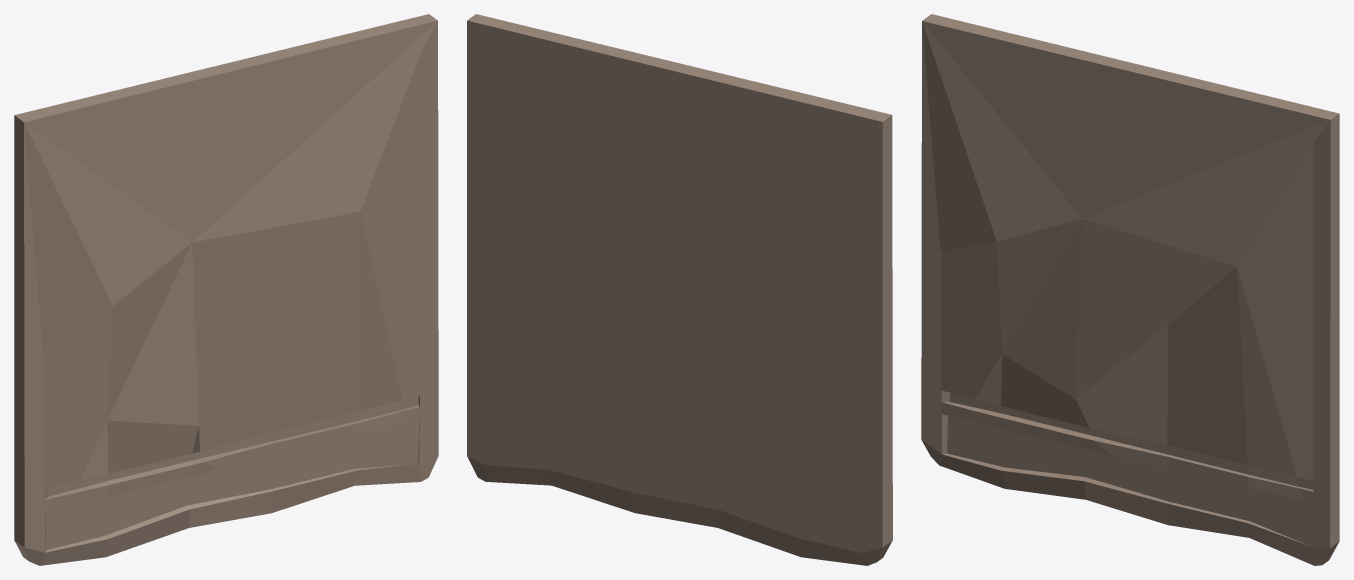
The model's file is Cave_Door_01.fbx.
3 views of the same model, side by side, from view 1: azimuth 30°, elevation 25°; view 2: azimuth 150°, elevation 25°; view 3: azimuth 330°, elevation 25° (orthographic).
Parts seen in each view (by area): view 1: door; view 2: door; view 3: door.
Boxes of the visible parts, bbox=[...] form: door: bbox=[14, 14, 438, 565]; door: bbox=[467, 14, 892, 565]; door: bbox=[921, 14, 1339, 565].
Bounding box in the file's own units: 525 × 553 × 41.84.
